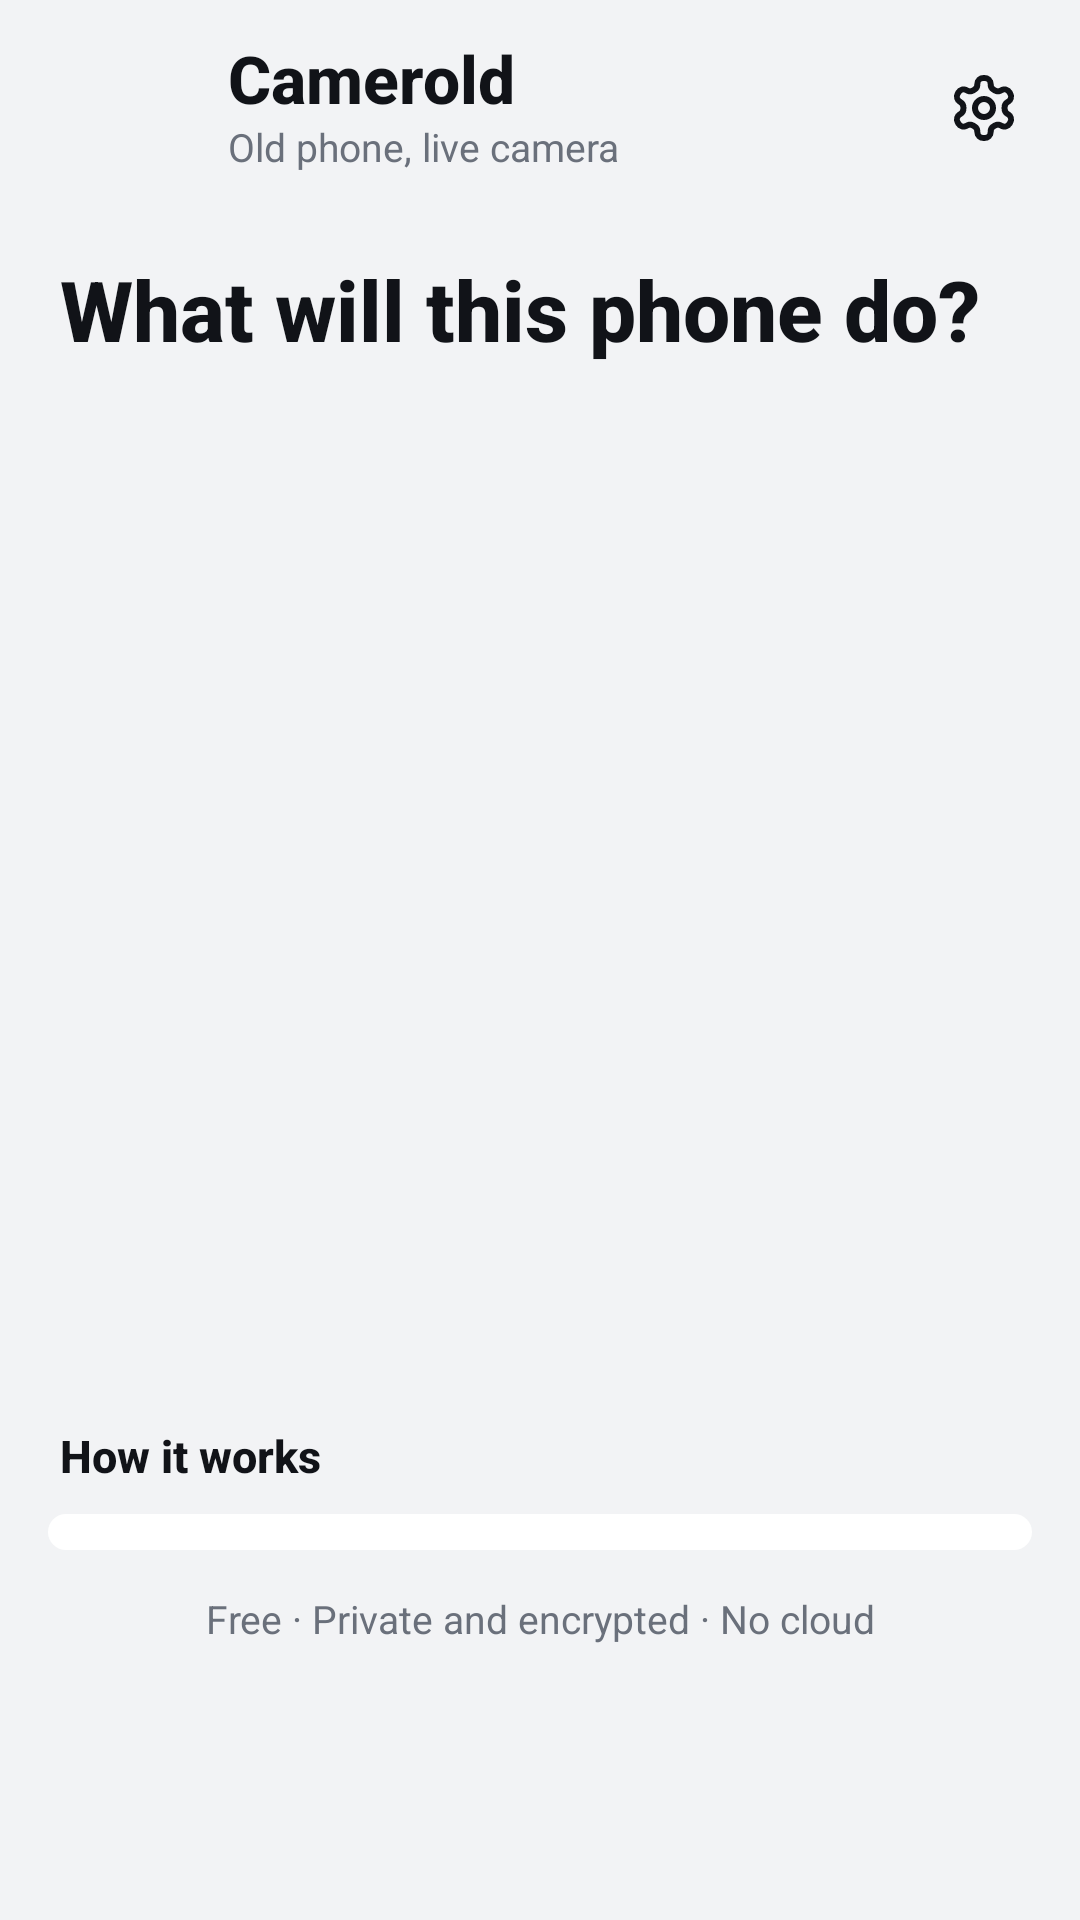

Screen size 1080px x 1920px. Icon name, then its box in pixels as (x1, y1, x2, y2):
Settings: (954, 75, 1014, 141)
